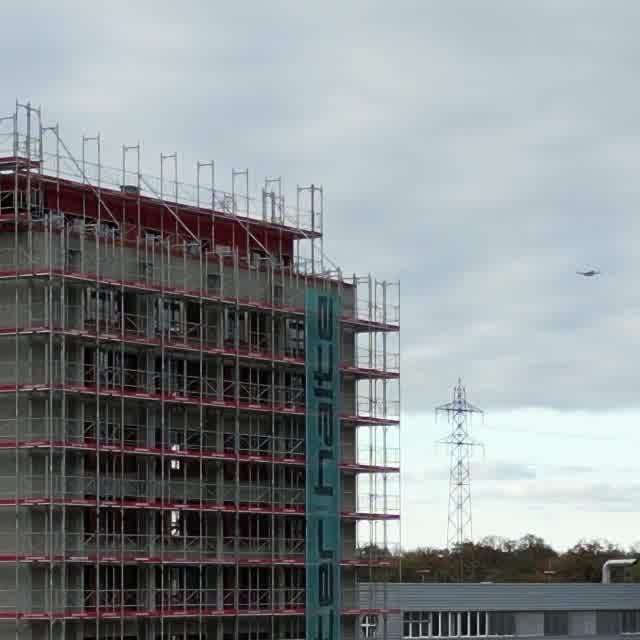Drohne: (577, 269, 600, 276)
